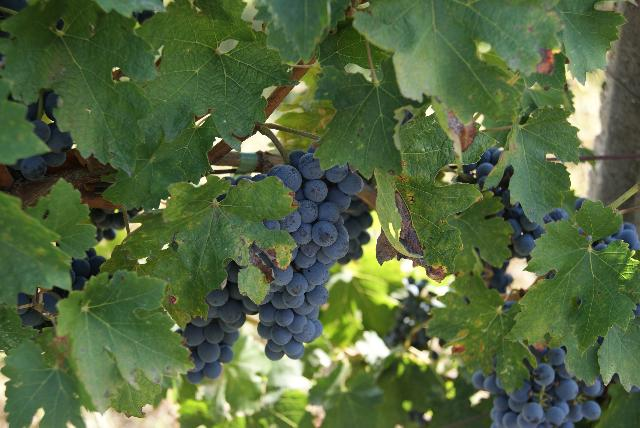grapes: (260, 149, 364, 360)
